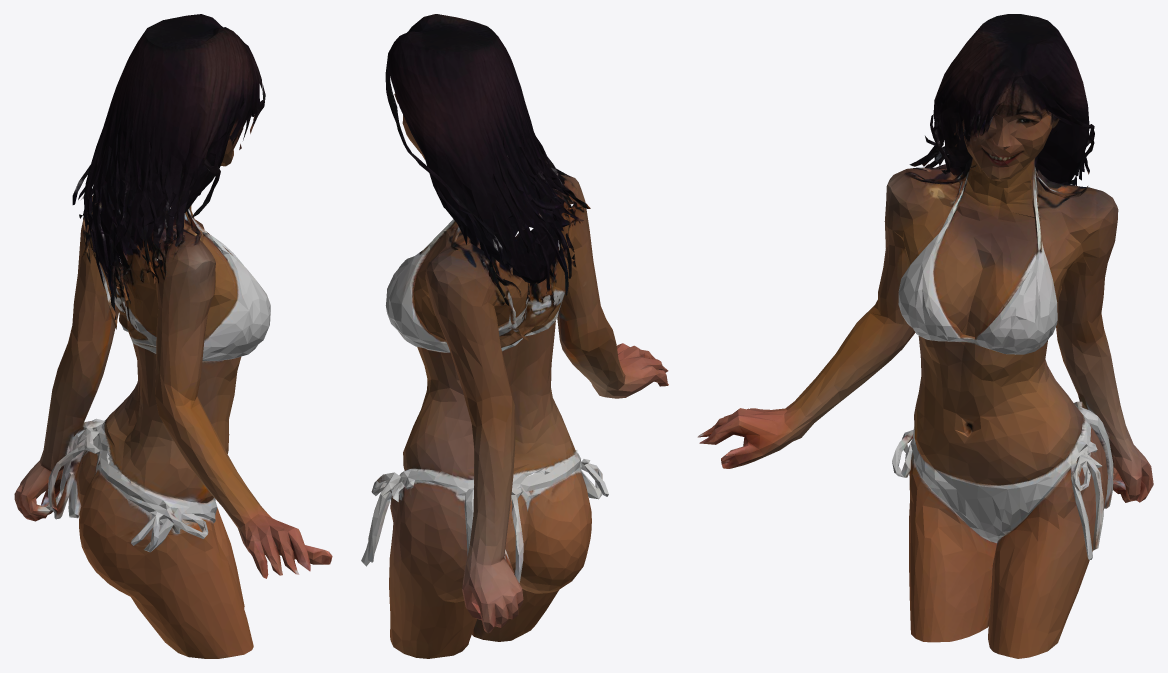
File: girl.glb
3 renders of one model, left to right at view 1: azimuth 30°, elevation 25°; view 2: azimuth 150°, elevation 25°; view 3: azimuth 270°, elevation 25°, orthographic. The views are drawn at different scales.
Visible parts, largest first — view 1: tripo_node_7f319bac-5718-4ce2-bfb3-e1b4c819ab7a; view 2: tripo_node_7f319bac-5718-4ce2-bfb3-e1b4c819ab7a; view 3: tripo_node_7f319bac-5718-4ce2-bfb3-e1b4c819ab7a.
Boxes of the visible parts, x1,y1,x2,y2 form: tripo_node_7f319bac-5718-4ce2-bfb3-e1b4c819ab7a: (14, 14, 332, 658); tripo_node_7f319bac-5718-4ce2-bfb3-e1b4c819ab7a: (361, 14, 668, 658); tripo_node_7f319bac-5718-4ce2-bfb3-e1b4c819ab7a: (697, 14, 1153, 658).
Size of the model in its own units: 0.3116 by 1 by 0.6859.
Materials: 1 (1 with a texture image).
